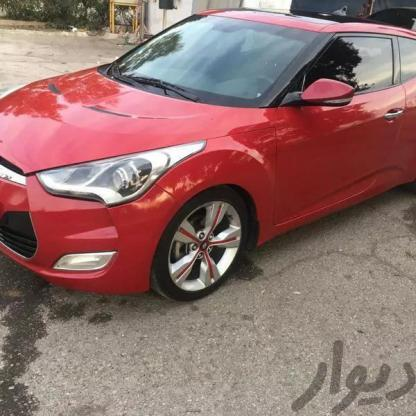Car: (0, 7, 416, 299)
